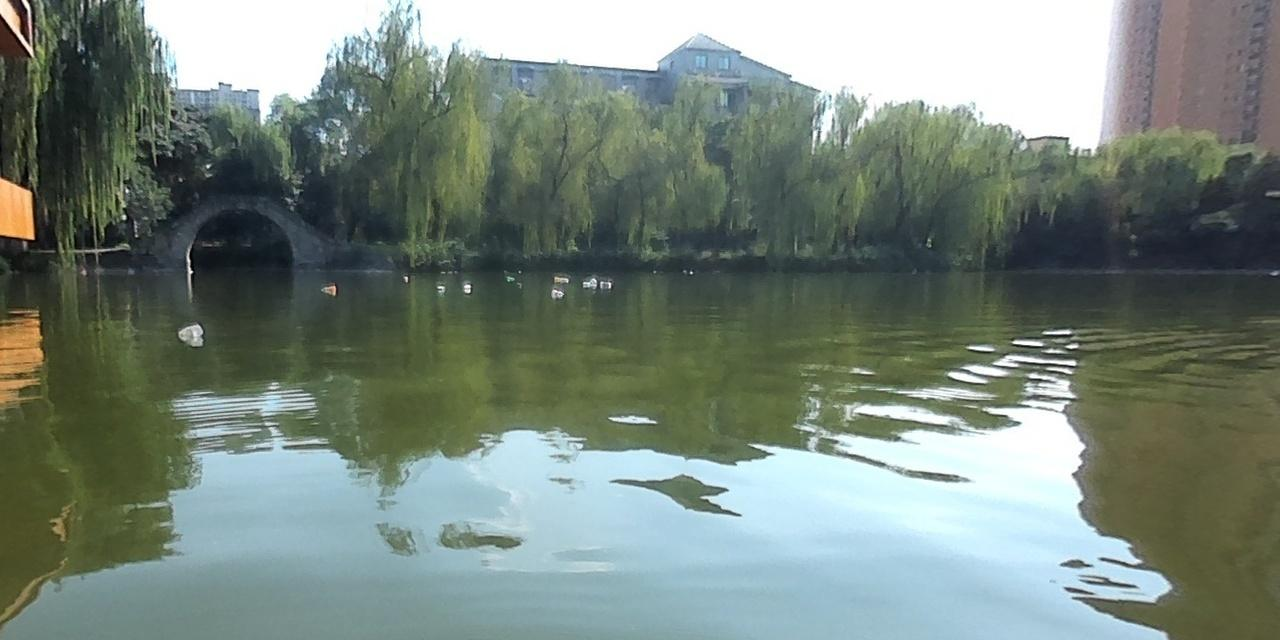bottle: (173, 320, 202, 337), (317, 281, 337, 295), (596, 278, 613, 290), (548, 288, 566, 297)
